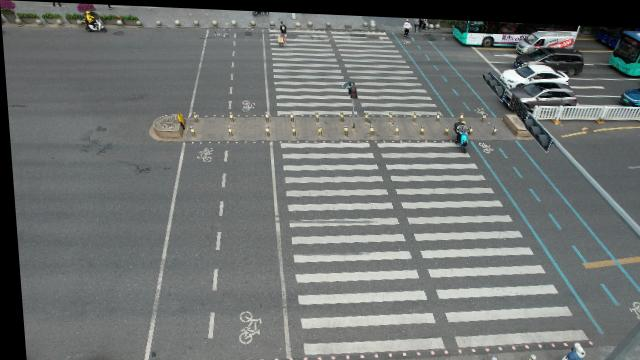non-motor-vehicle: (79, 7, 107, 33), (450, 116, 471, 150)
person: (552, 332, 582, 360), (276, 18, 290, 42), (400, 14, 413, 34)
